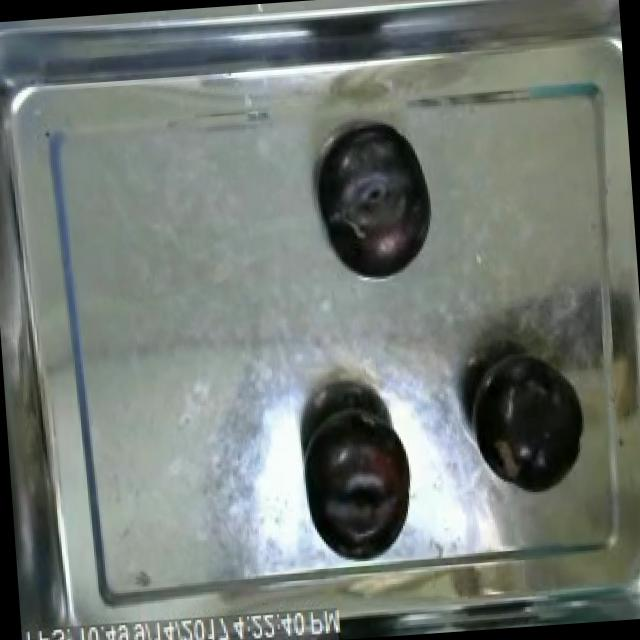Fruit: (290, 398, 425, 568), (306, 118, 439, 290), (459, 351, 597, 502)
